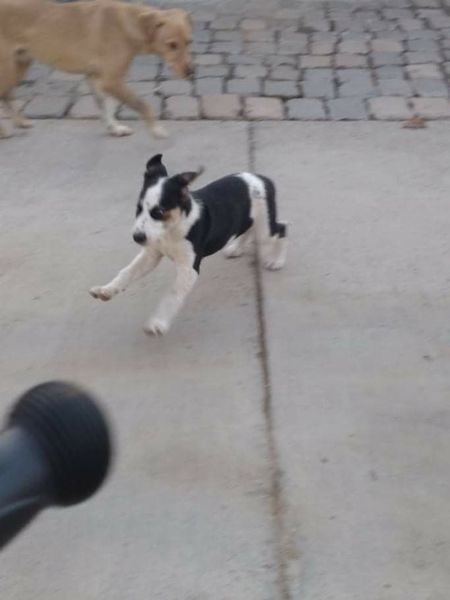dog: (78, 151, 304, 349), (5, 4, 220, 145)
